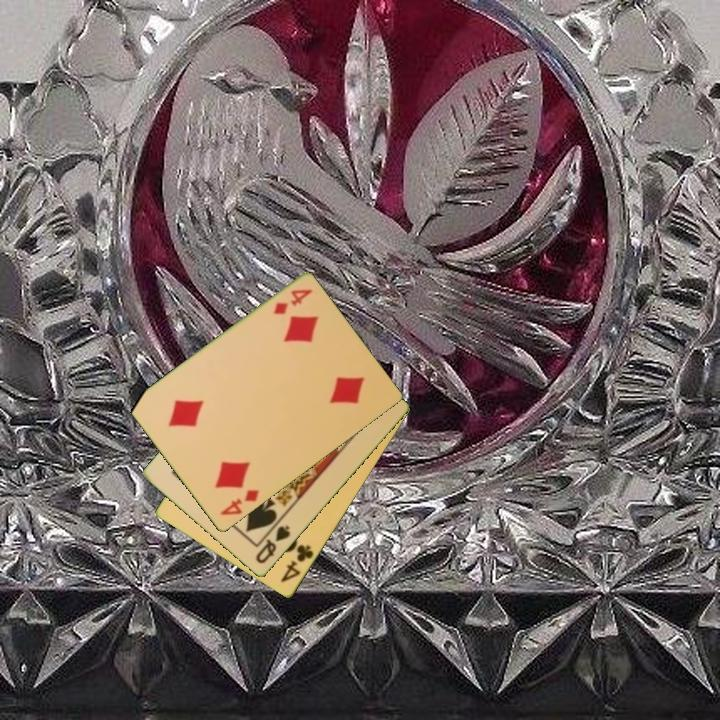4c: (277, 541, 317, 586)
4d: (216, 486, 262, 519), (270, 286, 315, 318)
Qs: (252, 522, 293, 567)
